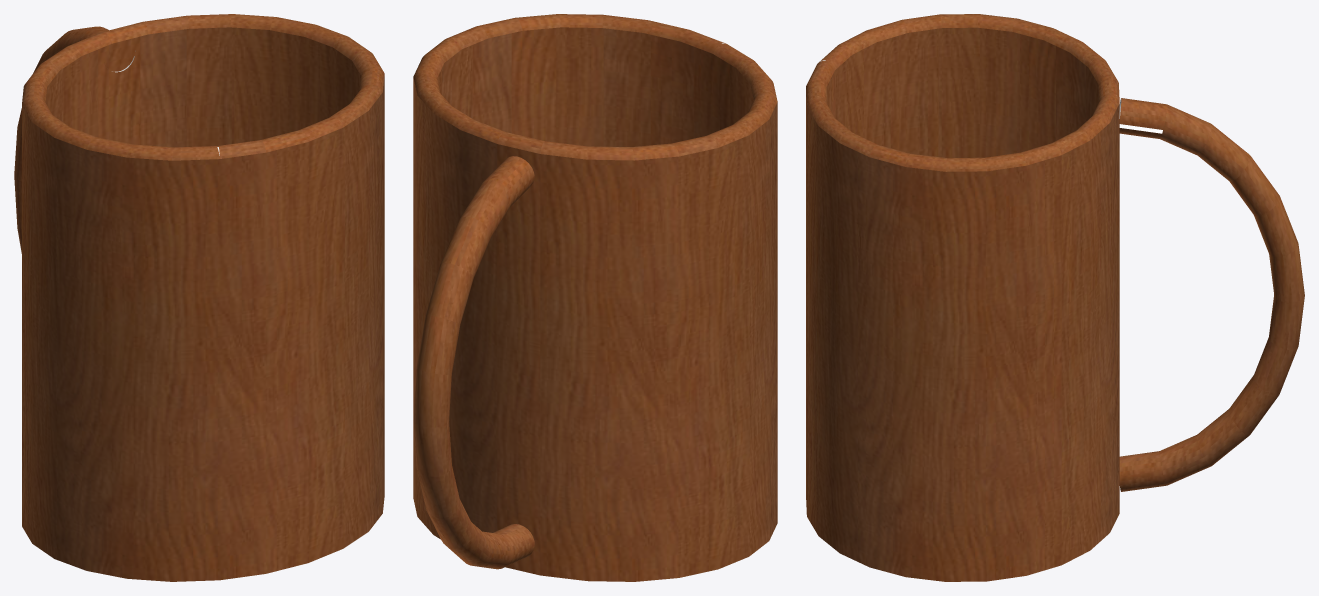
3 renders of one model, left to right at view 1: azimuth 30°, elevation 25°; view 2: azimuth 150°, elevation 25°; view 3: azimuth 270°, elevation 25°, orthographic. The views are drawn at different scales.
Parts seen in each view (by area): view 1: mesh1_mesh1-geometry, mesh2_mesh2-geometry; view 2: mesh1_mesh1-geometry, mesh2_mesh2-geometry; view 3: mesh1_mesh1-geometry, mesh2_mesh2-geometry.
Part boxes in pixels (bbox=[...]): mesh1_mesh1-geometry: bbox=[22, 14, 384, 581]; mesh2_mesh2-geometry: bbox=[14, 26, 108, 253]; mesh1_mesh1-geometry: bbox=[413, 14, 777, 581]; mesh2_mesh2-geometry: bbox=[413, 156, 534, 569]; mesh1_mesh1-geometry: bbox=[806, 14, 1119, 581]; mesh2_mesh2-geometry: bbox=[1119, 98, 1304, 491].
Size of the model in its own units: 0.4732 by 0.5977 by 0.6472.
2 materials, 1 textured.
